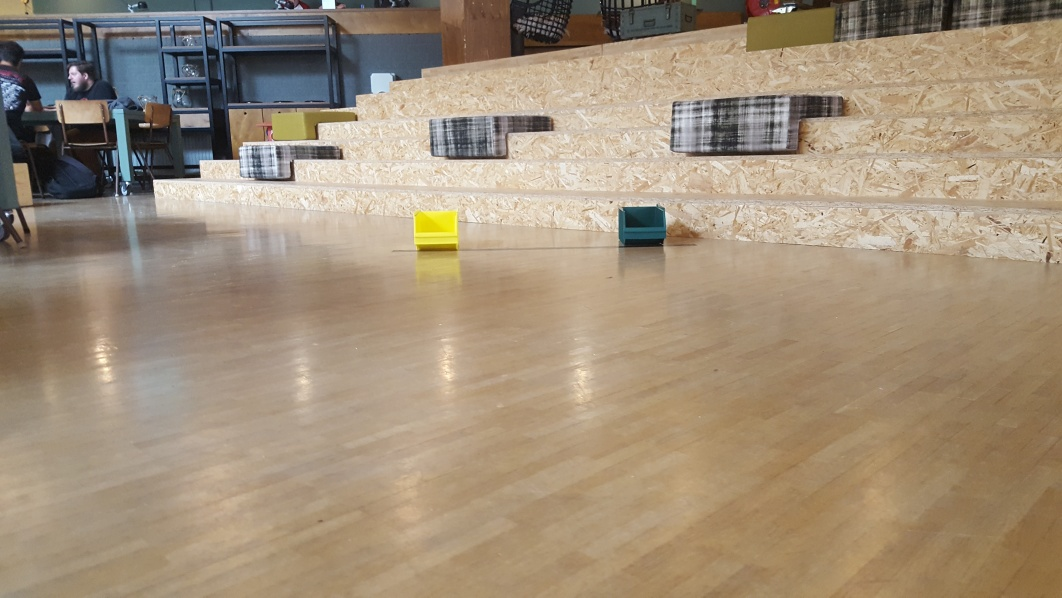tray: (616, 202, 668, 247), (407, 211, 466, 248)
